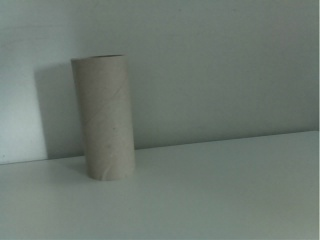rollo papel: (70, 53, 133, 181)
